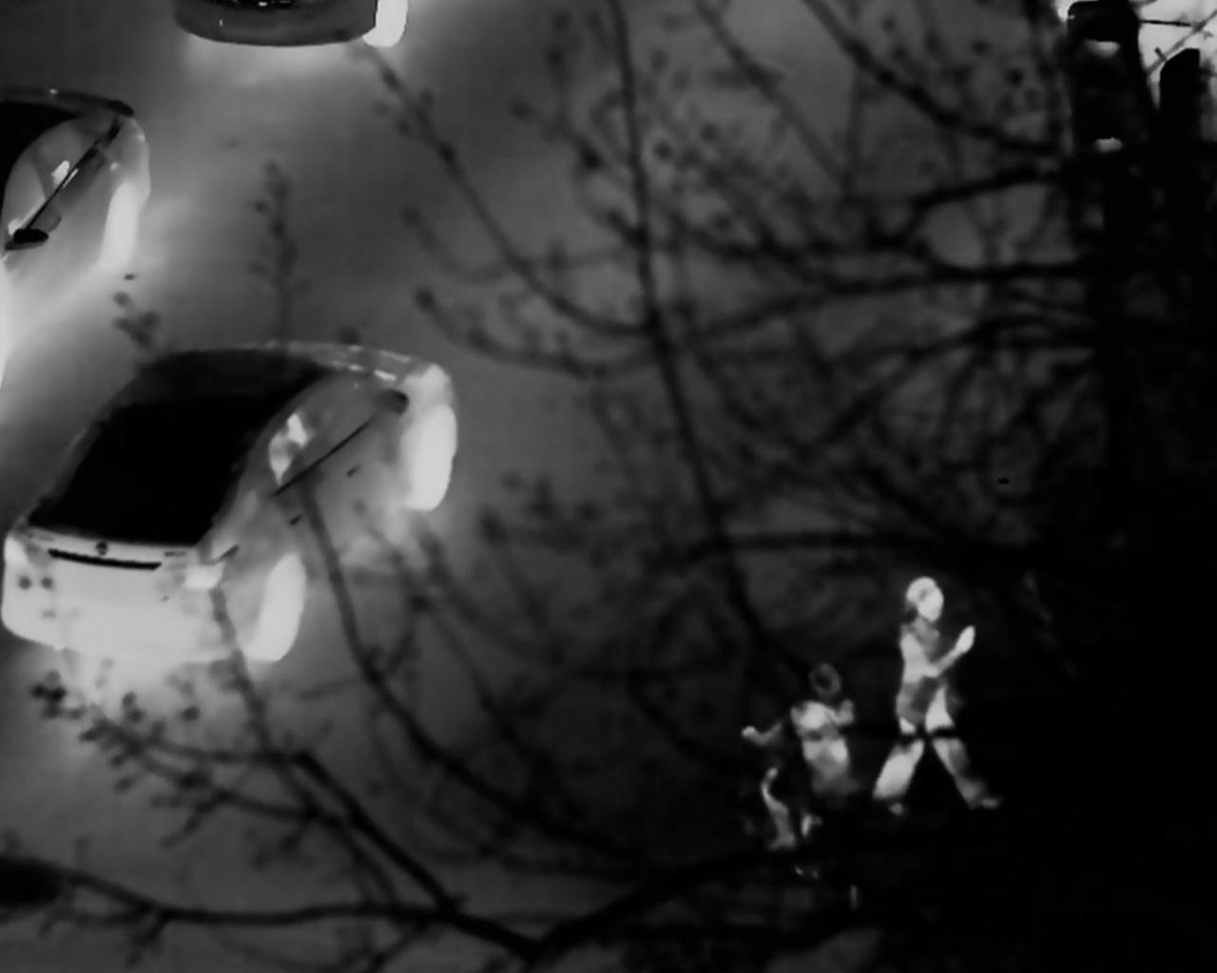person: (889, 588, 988, 805), (755, 664, 876, 814)
